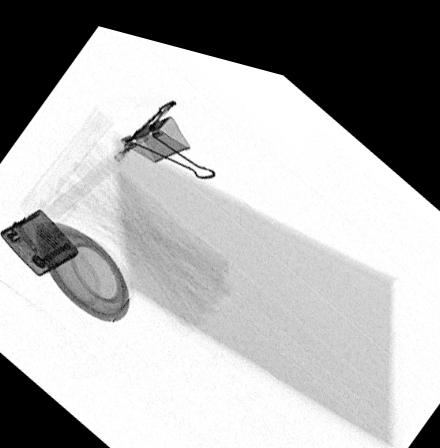Lighter: (0, 207, 78, 277)
